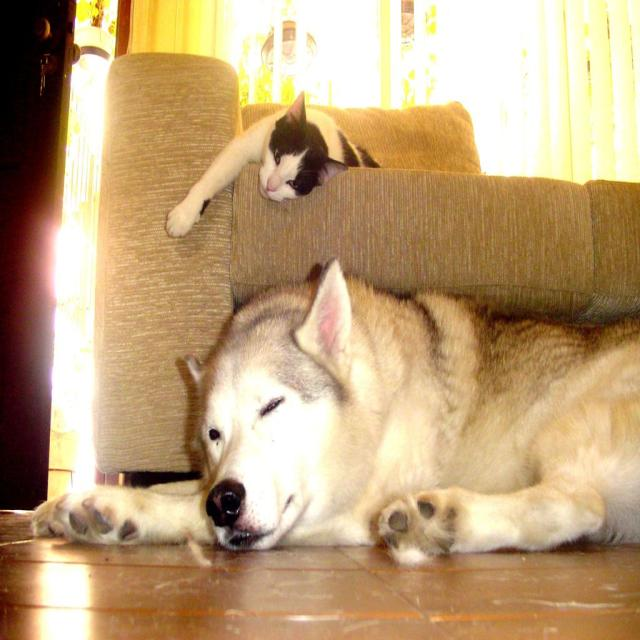Dog: (27, 255, 639, 566)
